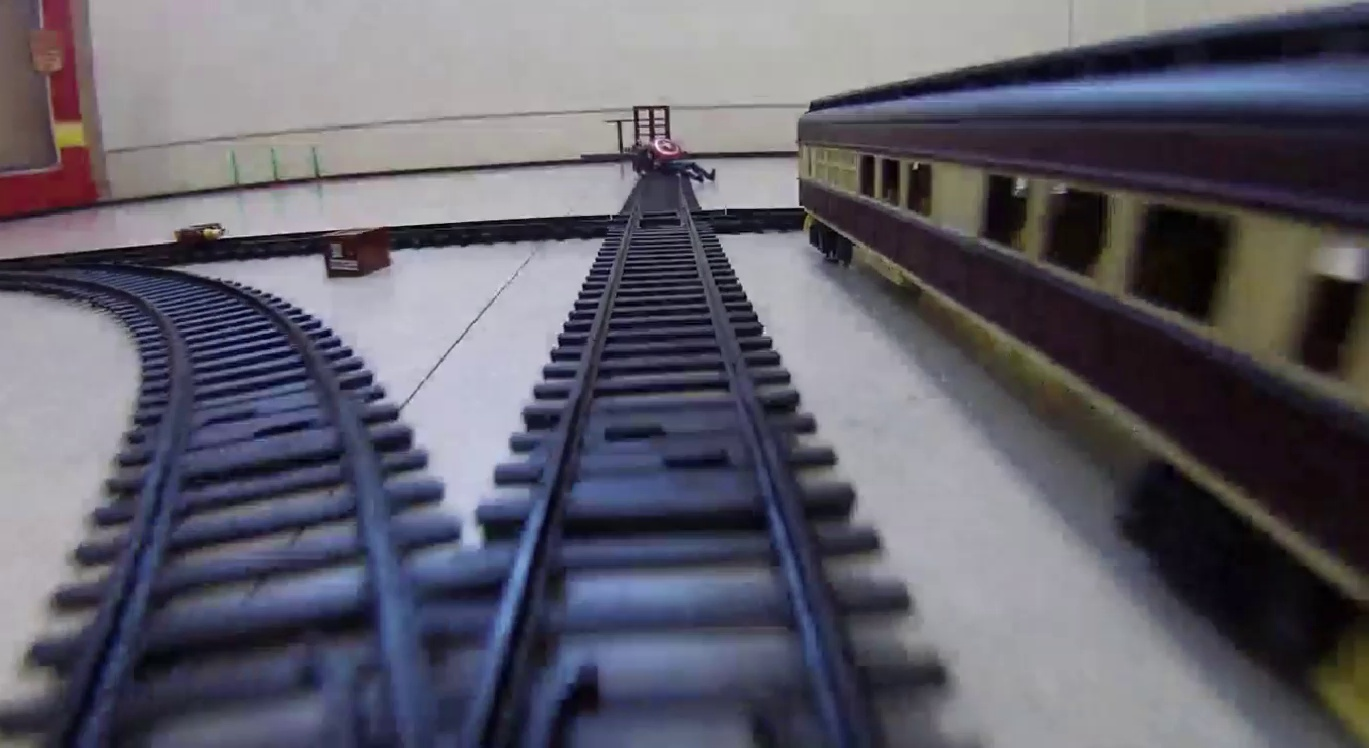box: (321, 227, 390, 274)
